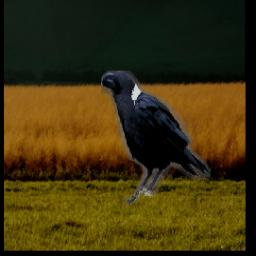Crow: (101, 72, 211, 205)
